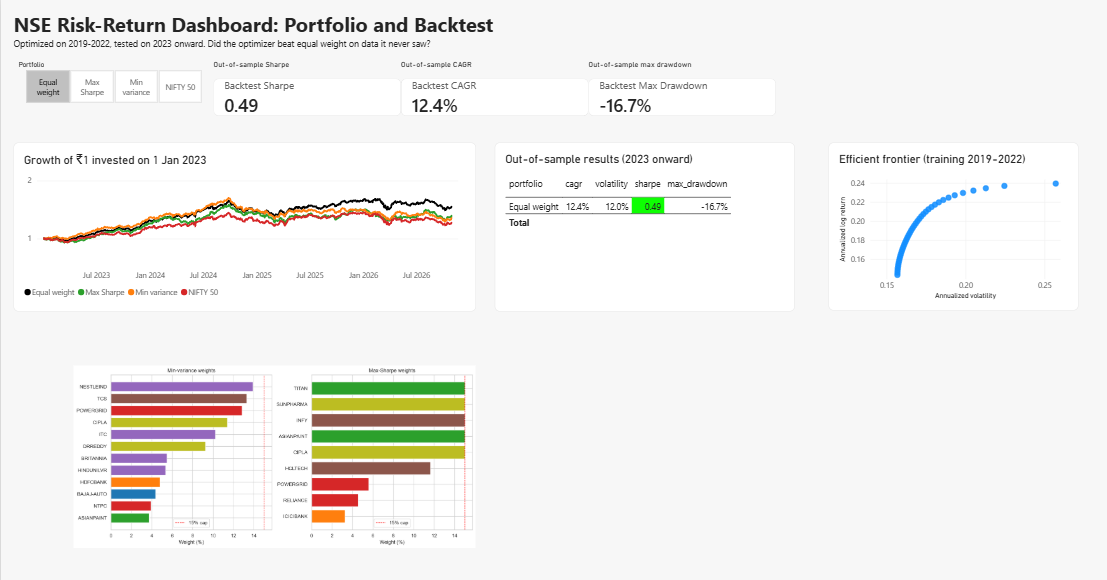

What the dashboard file says about the page in this screenshot:
{"tool":"powerbi","page":{"name":"Portfolio & Backtest","canvas":[1920,1080],"ordinal":2},"visuals":[{"type":"textbox","box":[20,15,1240,45],"z":0},{"type":"textbox","box":[20,60,1240,28],"z":1000},{"type":"slicer","fields":{"Values":["backtest_results.portfolio"]},"box":[20,95,320,70],"z":2000},{"type":"lineChart","title":"Growth of ₹1 invested on 1 Jan 2023","fields":{"Category":["backtest_wealth.date"],"Series":["backtest_wealth.portfolio"],"Y":["Avg(backtest_wealth.wealth)"]},"box":[20,228.3,740,270],"z":3000},{"type":"cardVisual","title":"Out-of-sample Sharpe","fields":{"Data":["backtest_results.Backtest Sharpe"]},"box":[340,95.5,300,90],"z":4000},{"type":"cardVisual","title":"Out-of-sample CAGR","fields":{"Data":["backtest_results.Backtest CAGR"]},"box":[640,95,300,90],"z":5000},{"type":"cardVisual","title":"Out-of-sample max drawdown","fields":{"Data":["backtest_results.Backtest Max Drawdown"]},"box":[940,95,300,90],"z":6000},{"type":"tableEx","title":"Out-of-sample results (2023 onward)","fields":{"Values":["backtest_results.portfolio","backtest_results.cagr","backtest_results.volatility","backtest_results.sharpe","backtest_results.max_drawdown"]},"box":[790,228.8,480,270],"z":7000},{"type":"scatterChart","title":"Efficient frontier (training 2019-2022)","fields":{"X":["efficient_frontier.volatility"],"Y":["efficient_frontier.target_return"]},"box":[1324.5,228.2,400,268.6],"z":7001},{"type":"image","box":[116.7,540,643.3,381.7],"z":7002}]}

Visuals, with their boxes on the page's 1920x1080 design canvas (x1, y1, x2, y2). These are canvas units, not pixel positions in the 1107x580 screenshot, which may show the page scaled, cropped or inside an application window:
textbox: detection(20, 15, 1260, 60)
textbox: detection(20, 60, 1260, 88)
slicer - backtest_results.portfolio: detection(20, 95, 340, 165)
"Growth of ₹1 invested on 1 Jan 2023" lineChart: detection(20, 228, 760, 498)
"Out-of-sample Sharpe" cardVisual: detection(340, 96, 640, 186)
"Out-of-sample CAGR" cardVisual: detection(640, 95, 940, 185)
"Out-of-sample max drawdown" cardVisual: detection(940, 95, 1240, 185)
"Out-of-sample results (2023 onward)" tableEx: detection(790, 229, 1270, 499)
"Efficient frontier (training 2019-2022)" scatterChart: detection(1324, 228, 1724, 497)
image: detection(117, 540, 760, 922)
